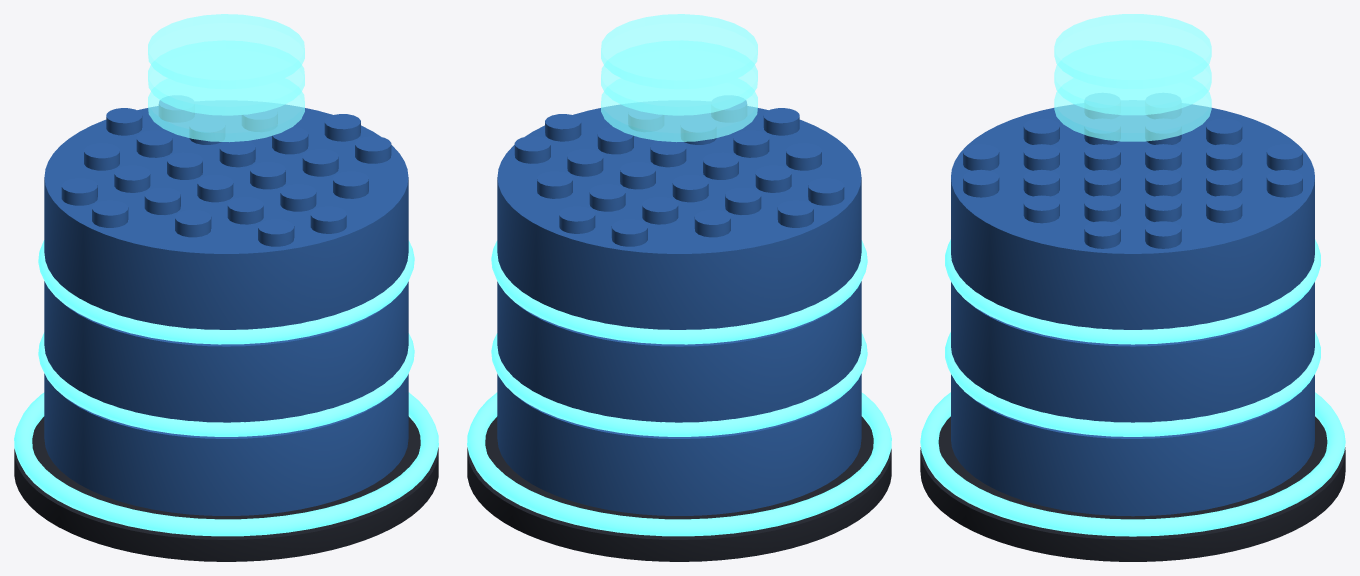
The model's file is database.glb.
The picture shows the model from 3 angles, left to right: view 1: azimuth 30°, elevation 25°; view 2: azimuth 150°, elevation 25°; view 3: azimuth 270°, elevation 25°; orthographic projection.
Parts seen in each view (by area): view 1: database-solid, database-glow, db-holo-1-rotor-holo; view 2: database-solid, database-glow, db-holo-1-rotor-holo; view 3: database-solid, database-glow, db-holo-1-rotor-holo.
Boxes of the visible parts, x1=… form: database-solid: x1=14, y1=100, x2=438, y2=561; database-glow: x1=14, y1=240, x2=438, y2=536; db-holo-1-rotor-holo: x1=148, y1=14, x2=304, y2=141; database-solid: x1=467, y1=100, x2=891, y2=561; database-glow: x1=467, y1=240, x2=891, y2=536; db-holo-1-rotor-holo: x1=601, y1=14, x2=757, y2=141; database-solid: x1=920, y1=104, x2=1345, y2=561; database-glow: x1=920, y1=239, x2=1345, y2=536; db-holo-1-rotor-holo: x1=1054, y1=14, x2=1211, y2=141.
Bounding box in the file's own units: 0.56 × 0.6176 × 0.56.
